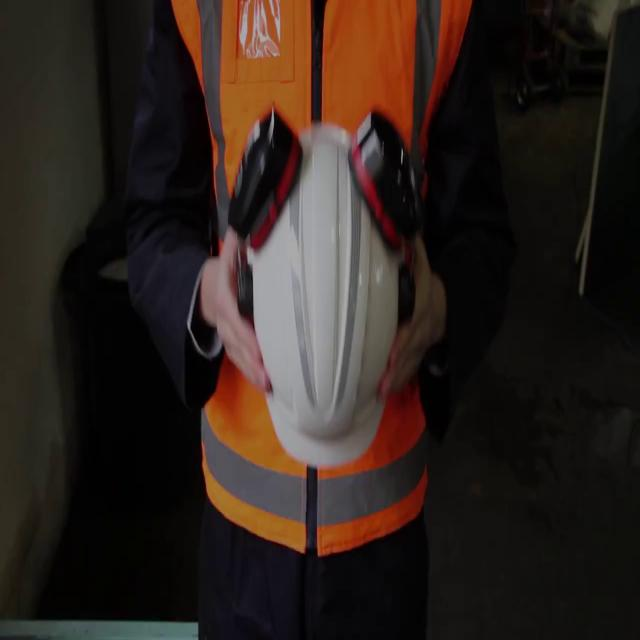earmuff: (226, 102, 306, 258), (346, 99, 420, 262)
helmet: (234, 116, 408, 473)
